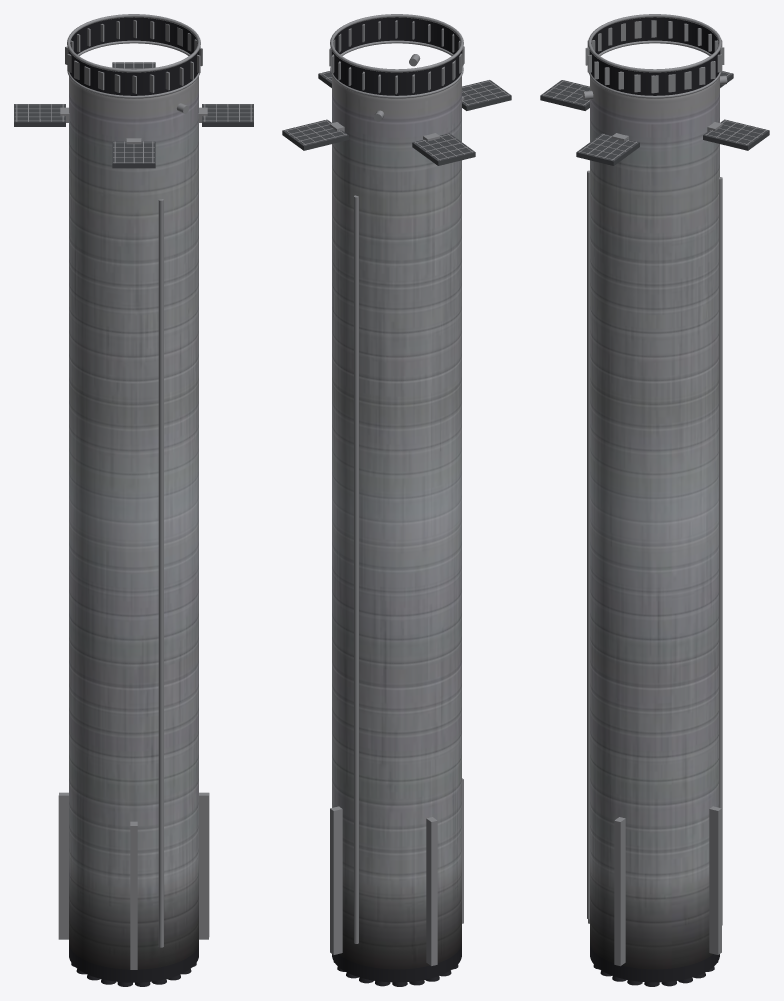
Rendered from EA02_super_heavy.glb.
3 renders of one model, left to right at view 1: azimuth 30°, elevation 25°; view 2: azimuth 150°, elevation 25°; view 3: azimuth 270°, elevation 25°, orthographic.
Visible parts, largest first — view 1: tank_section, vent_strut, hot_stage_ring; view 2: tank_section, vent_strut, hot_stage_ring; view 3: tank_section, vent_strut, hot_stage_ring.
Part boxes in pixels (x1,y1,x2,y2): tank_section: (69, 76, 198, 969); vent_strut: (14, 14, 253, 969); hot_stage_ring: (68, 17, 199, 986); tank_section: (332, 76, 461, 969); vent_strut: (282, 14, 511, 965); hot_stage_ring: (331, 17, 462, 986); tank_section: (590, 76, 719, 969); vent_strut: (540, 14, 769, 966); hot_stage_ring: (589, 17, 720, 986).
Size of the model in its own units: 15.88 by 70.11 by 15.88.
Materials: 3 (1 with a texture image).
